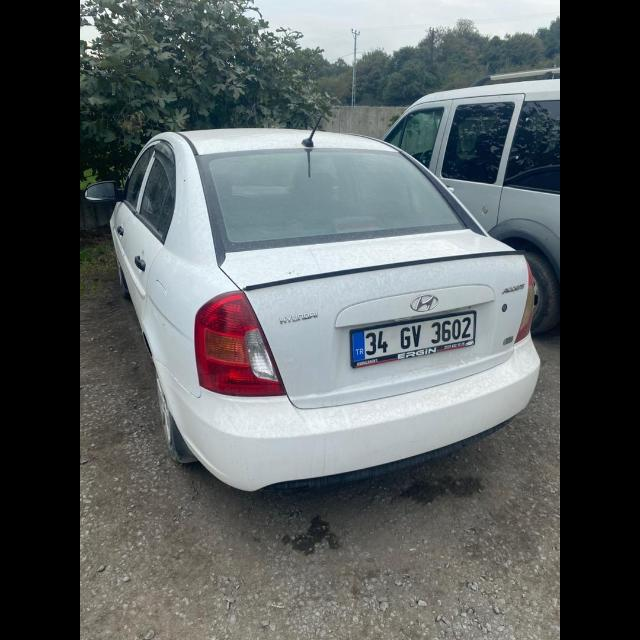Plaka: (352, 316, 474, 364)
